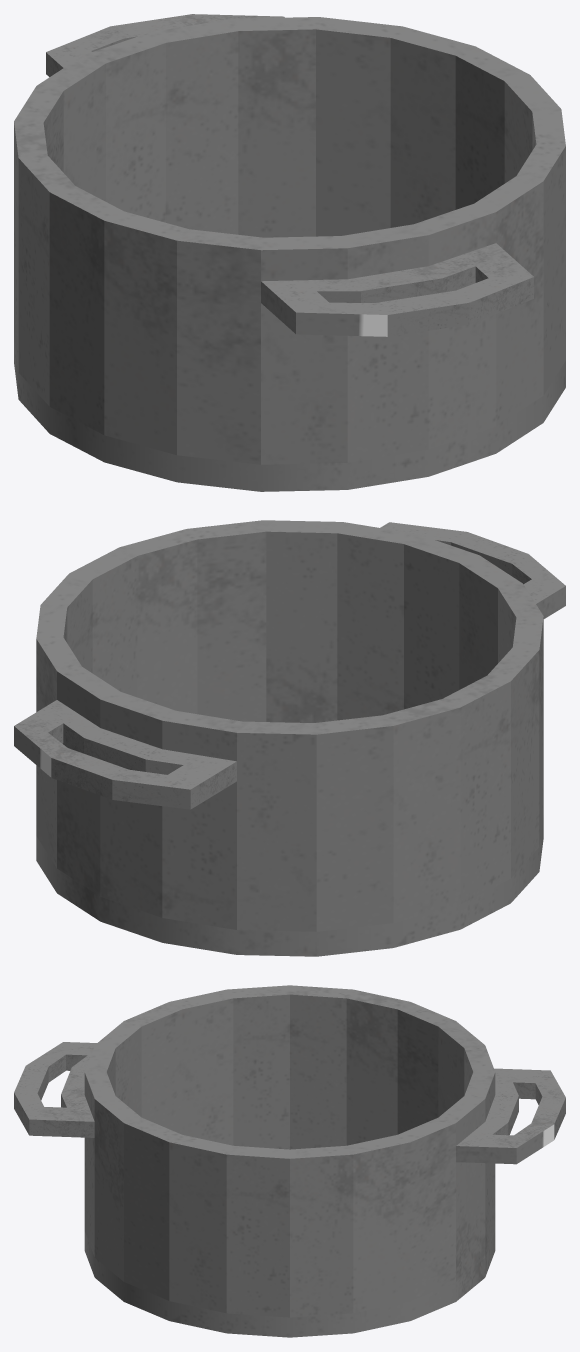
The model's file is Pot.fbx.
The picture shows the model from 3 angles, top to bottom: view 1: azimuth 30°, elevation 25°; view 2: azimuth 150°, elevation 25°; view 3: azimuth 270°, elevation 25°; orthographic projection. The views are drawn at different scales.
Visible parts, largest first — view 1: Pot; view 2: Pot; view 3: Pot.
Boxes of the visible parts, x1,y1,x2,y2 form: Pot: (14, 14, 565, 491); Pot: (14, 520, 565, 956); Pot: (14, 985, 565, 1337).
Bounding box in the file's own units: 0.2752 × 0.1322 × 0.3699.
